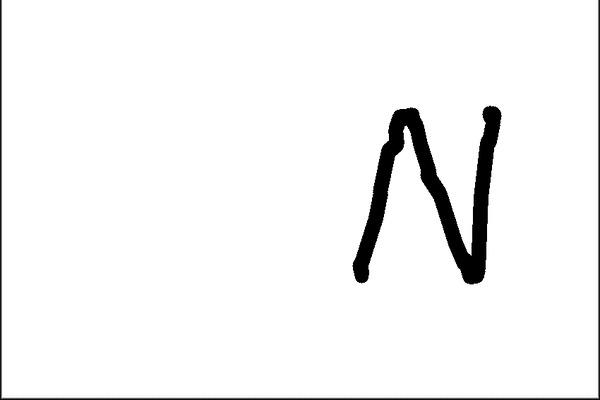N: (348, 97, 505, 287)
